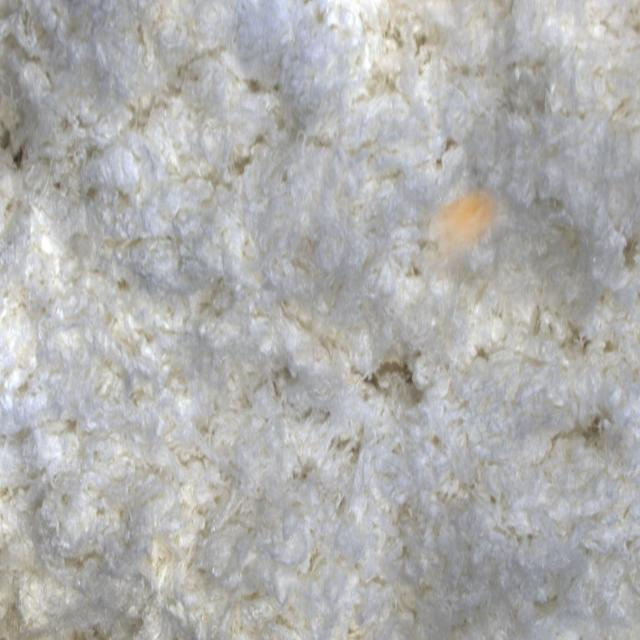dust: (420, 183, 515, 298)
